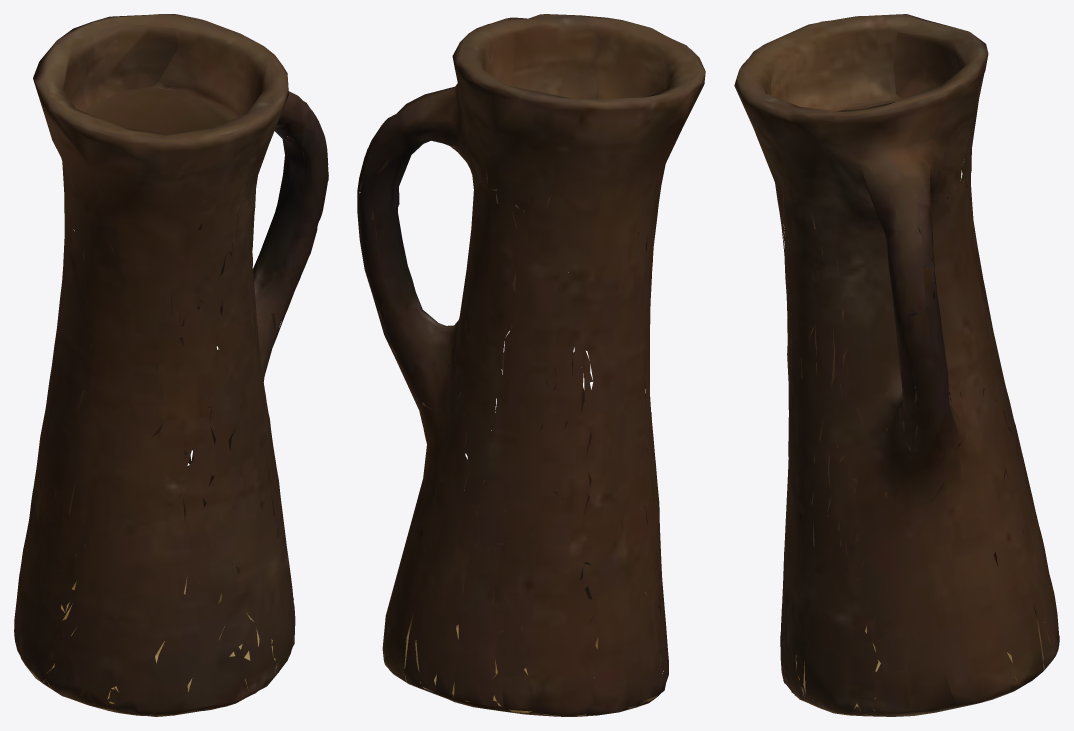
File: hm-pottery-mug.lod1.glb
3 renders of one model, left to right at view 1: azimuth 30°, elevation 25°; view 2: azimuth 150°, elevation 25°; view 3: azimuth 270°, elevation 25°, orthographic.
Visible parts, largest first — view 1: Object_2, Object_3; view 2: Object_2, Object_3; view 3: Object_2, Object_3.
Part boxes in pixels (x1,y1,x2,y2): Object_2: (14,14,328,715); Object_3: (14,114,328,716); Object_2: (359,14,705,716); Object_3: (357,129,668,716); Object_2: (734,14,1059,714); Object_3: (775,160,1059,716).
Bounding box in the file's own units: 0.096 × 0.1898 × 0.0907.
Materials: 1 (1 with a texture image).
